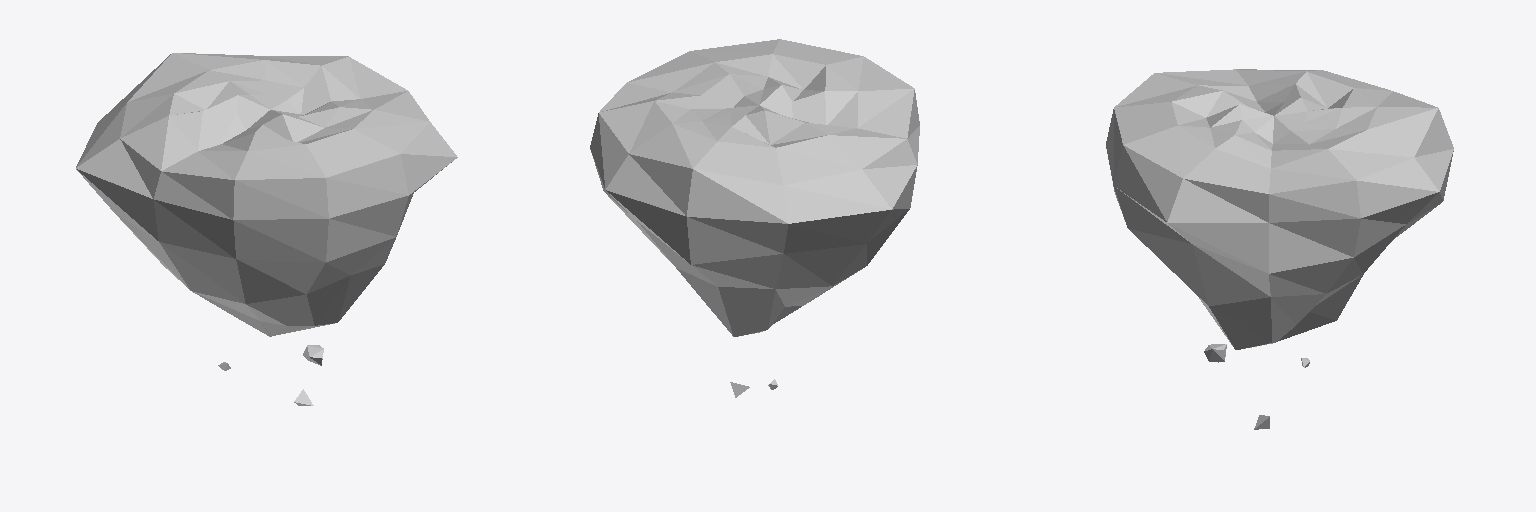
The model's file is DirtGround.obj.
The picture shows the model from 3 angles: view 1: azimuth 30°, elevation 25°; view 2: azimuth 150°, elevation 25°; view 3: azimuth 270°, elevation 25°; orthographic projection.
Parts seen in each view (by area): view 1: Island_Untitled.003; view 2: Island_Untitled.003; view 3: Island_Untitled.003.
Part boxes in pixels (x1,y1,x2,y2): Island_Untitled.003: (76, 53, 457, 405); Island_Untitled.003: (590, 39, 919, 397); Island_Untitled.003: (1106, 69, 1453, 429).
Bounding box in the file's own units: 1.05 × 1.02 × 1.04.